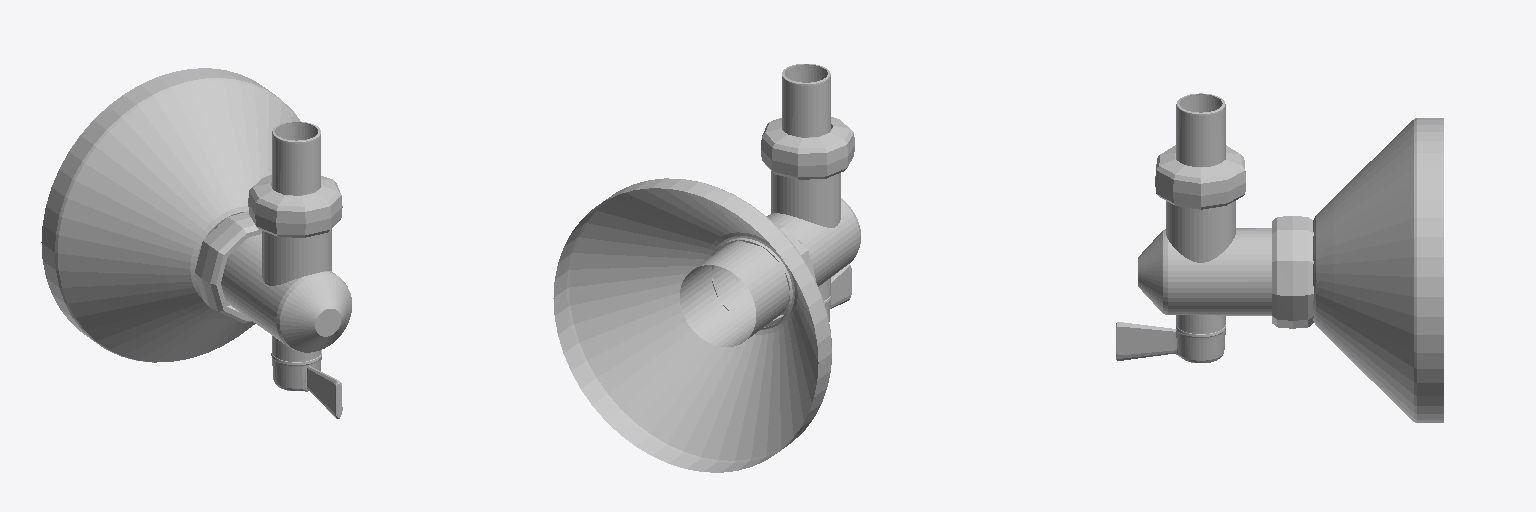
The model's file is sink_valve.obj.
3 views of the same model, side by side, from view 1: azimuth 30°, elevation 25°; view 2: azimuth 150°, elevation 25°; view 3: azimuth 270°, elevation 25° (orthographic).
Visible parts, largest first — view 1: Valve_01; view 2: Valve_01; view 3: Valve_01.
Part boxes in pixels (bbox=[...]): Valve_01: bbox=[41, 68, 351, 418]; Valve_01: bbox=[553, 64, 860, 472]; Valve_01: bbox=[1116, 93, 1443, 422].
Size of the model in its own units: 13.4 by 14.8 by 14.36.